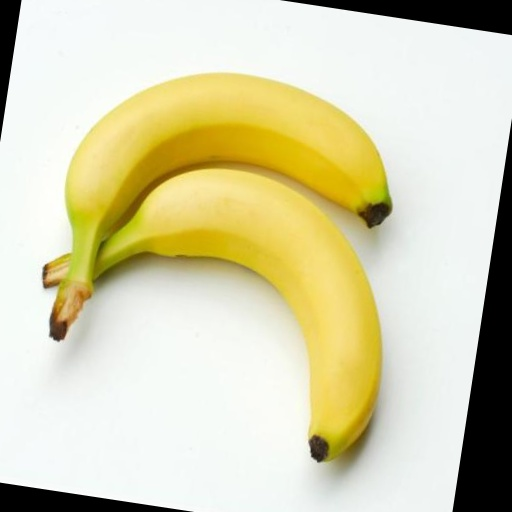fruit: (50, 73, 391, 339), (94, 169, 381, 461)
